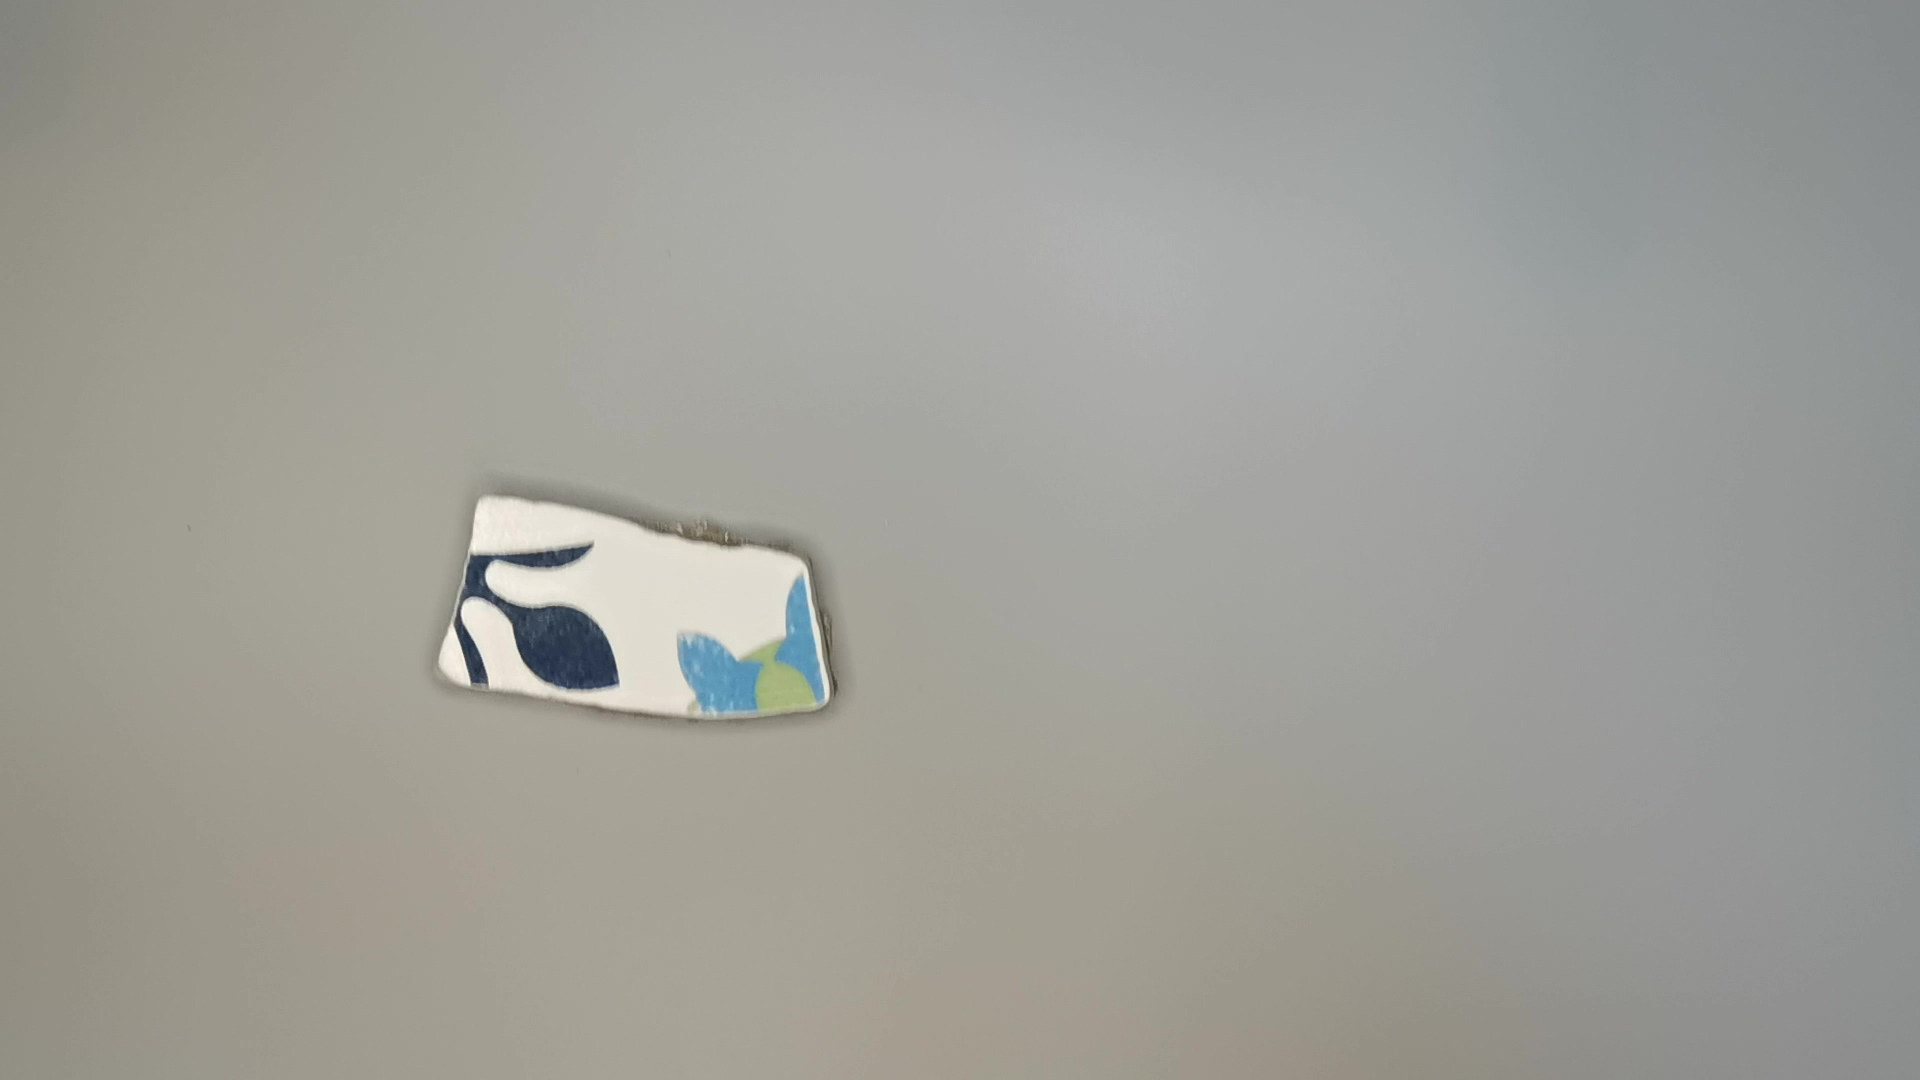ceramic: (422, 489, 841, 727)
